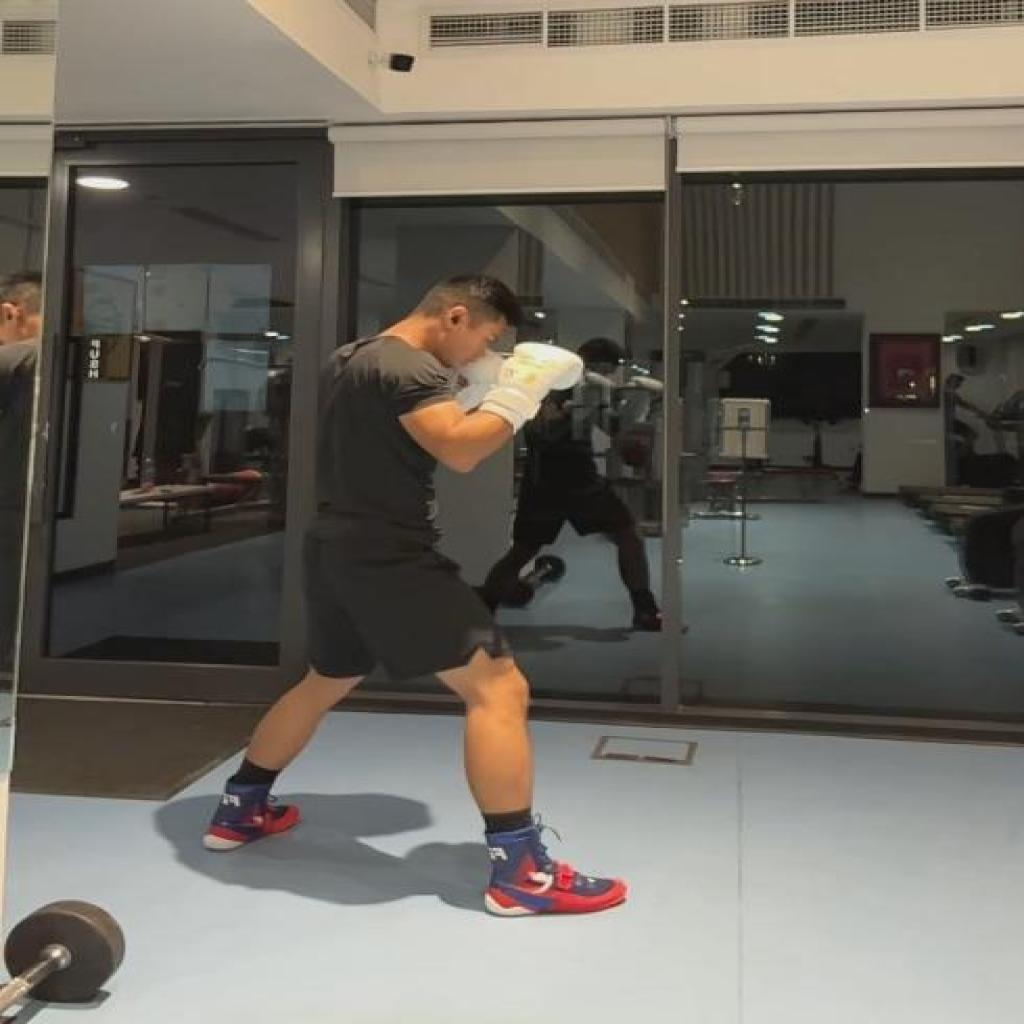no punch: (194, 268, 634, 922)
